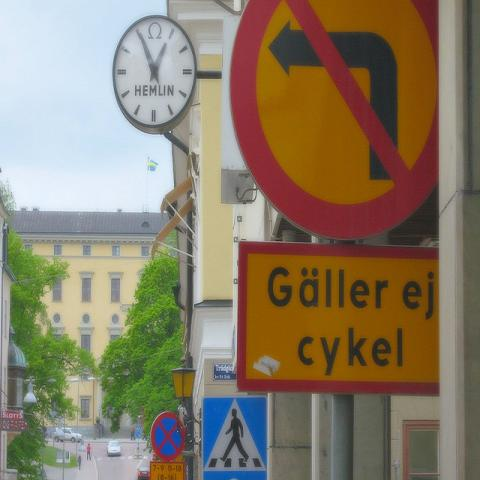car: (54, 428, 82, 443), (107, 442, 123, 455), (137, 466, 150, 480)
